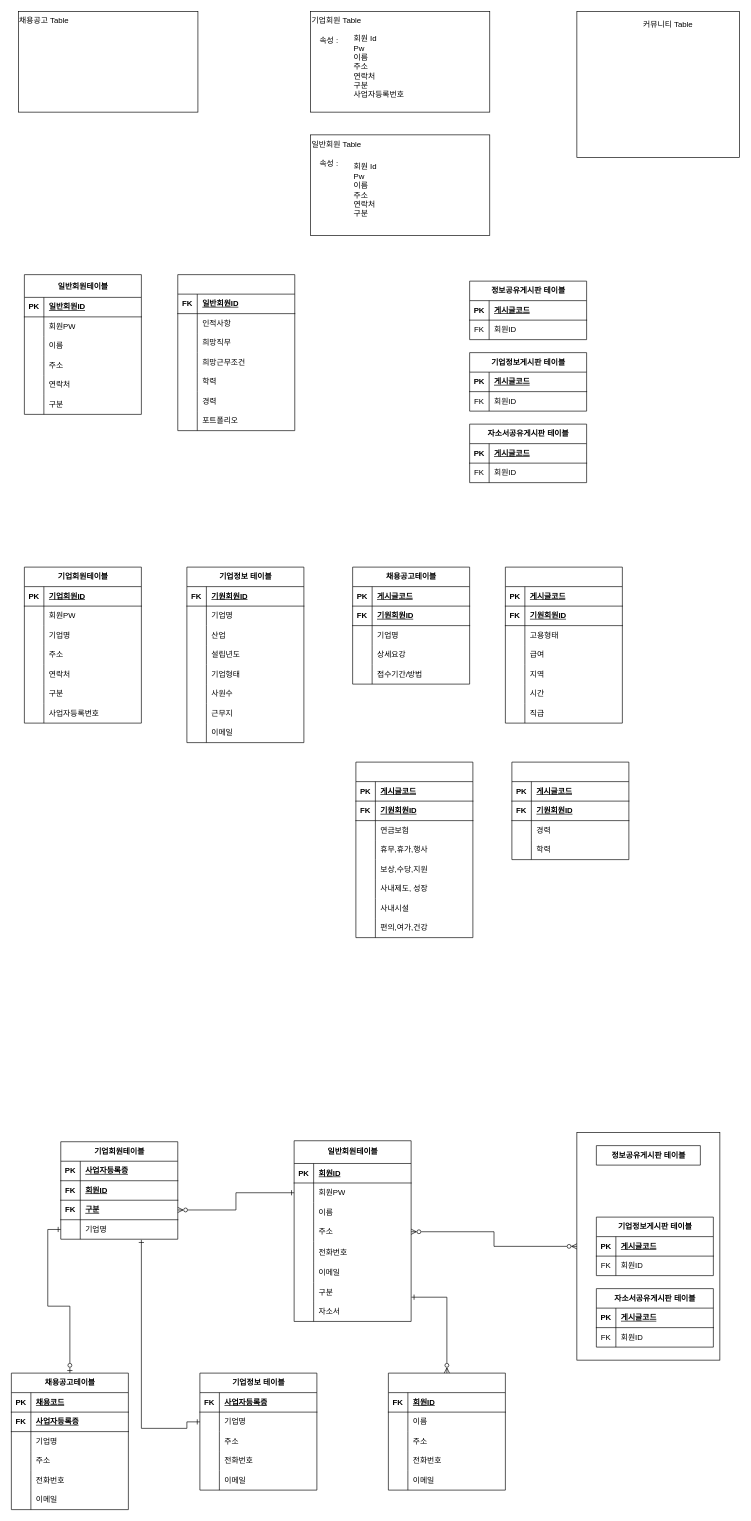
This 751x1521 diagram has some shape labels left out. The shapes that lost their labels are listed below. From the top down, each one's box as (x1, y1, x2, y2) in pixels, then its label:
(18, 11, 198, 112): 속성 : 게시글코드 기업 명 주소 주소 전화번호 이메일
(576, 11, 739, 158): 속성 : 정보공유게시글코드 기업정보게시글코드 자소서공유게시글코드
(177, 274, 295, 431): 자기소개서 테이블
(505, 566, 622, 723): 근무조건 테이블
(511, 761, 629, 860): 지원자격 테이블
(355, 761, 473, 938): 근무환경 테이블
(388, 1372, 505, 1490): 구직자 테이블
